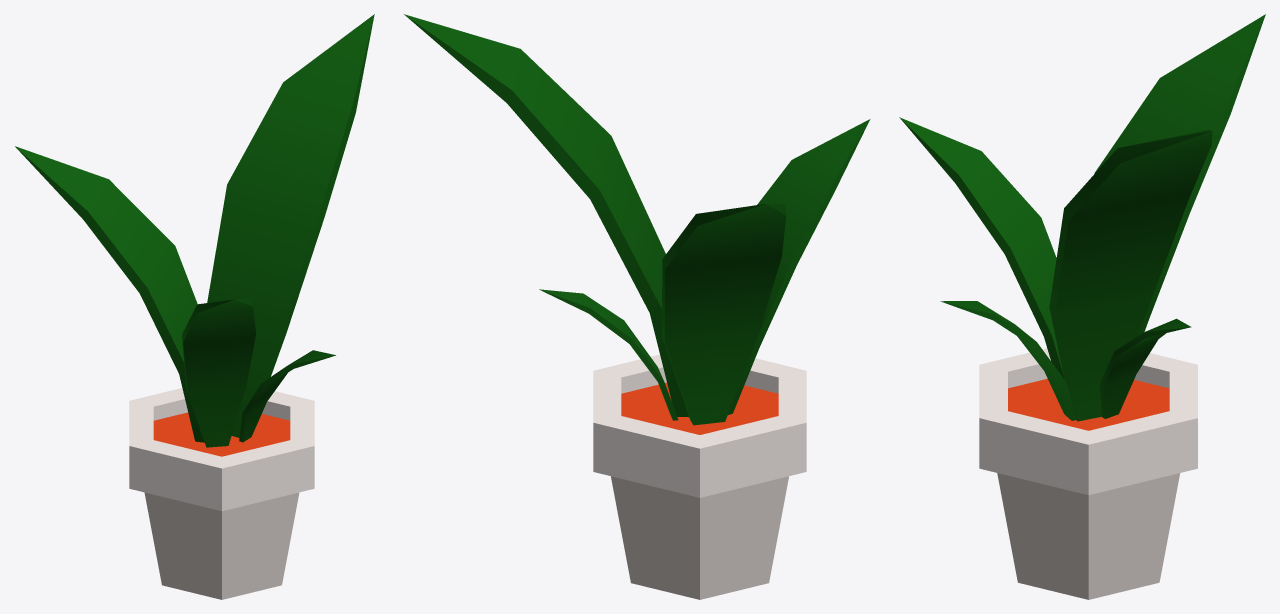
The model's file is chau cay canh.FBX.
3 views of the same model, side by side, from view 1: azimuth 30°, elevation 25°; view 2: azimuth 150°, elevation 25°; view 3: azimuth 270°, elevation 25° (orthographic). The views are drawn at different scales.
Parts seen in each view (by area): view 1: Cylinder254; view 2: Cylinder254; view 3: Cylinder254.
Part boxes in pixels (bbox=[...]): Cylinder254: bbox=[15, 14, 374, 599]; Cylinder254: bbox=[404, 14, 870, 599]; Cylinder254: bbox=[899, 14, 1265, 599].
Size of the model in its own units: 2.6 by 3.44 by 2.07.
